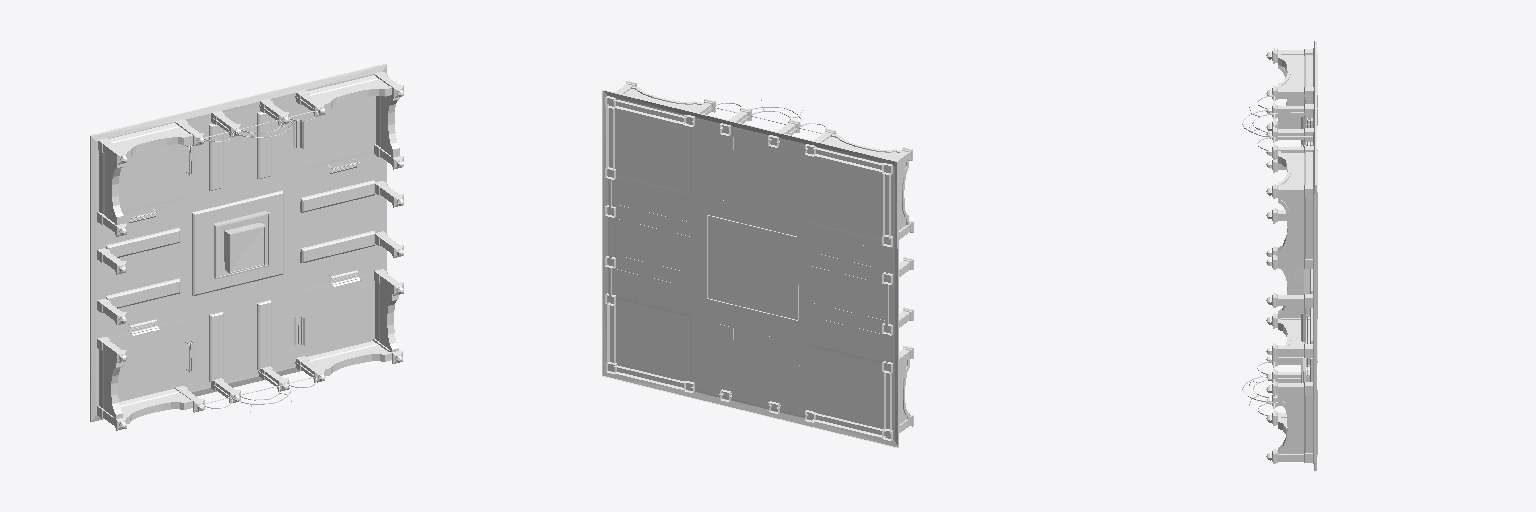
File: garden1.obj
The picture shows the model from 3 angles: view 1: azimuth 30°, elevation 25°; view 2: azimuth 150°, elevation 25°; view 3: azimuth 270°, elevation 25°; orthographic projection.
Parts seen in each view (by area): view 1: Garden_001; view 2: Garden_001; view 3: Garden_001.
Boxes of the visible parts, x1=… form: Garden_001: x1=90, y1=64, x2=403, y2=430; Garden_001: x1=602, y1=81, x2=914, y2=447; Garden_001: x1=1242, y1=41, x2=1317, y2=470.
Size of the model in its own units: 23.61 by 21.84 by 5.23.